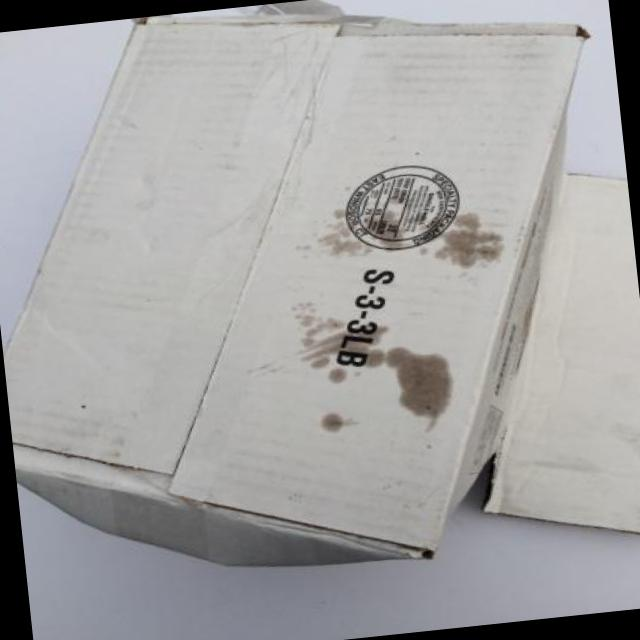cardboard: (4, 15, 581, 565), (485, 176, 639, 532)
